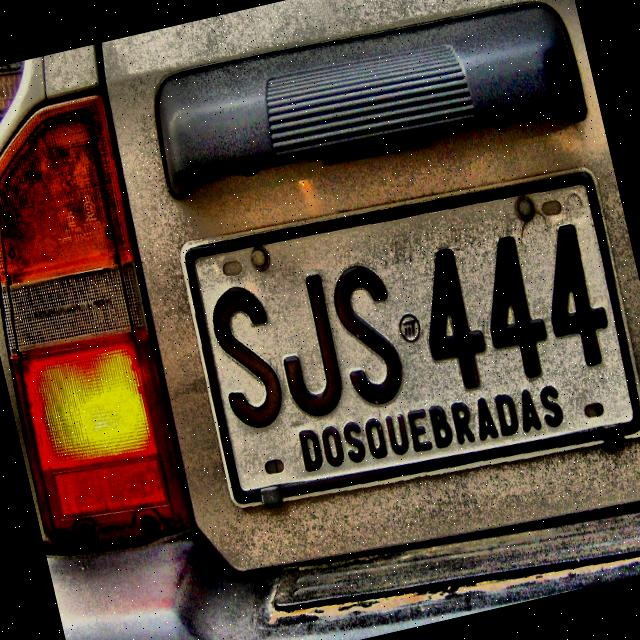4: (410, 238, 499, 402), (470, 225, 560, 387), (530, 214, 619, 376)
J: (264, 266, 352, 428)
S: (201, 274, 293, 441), (325, 255, 415, 413)
